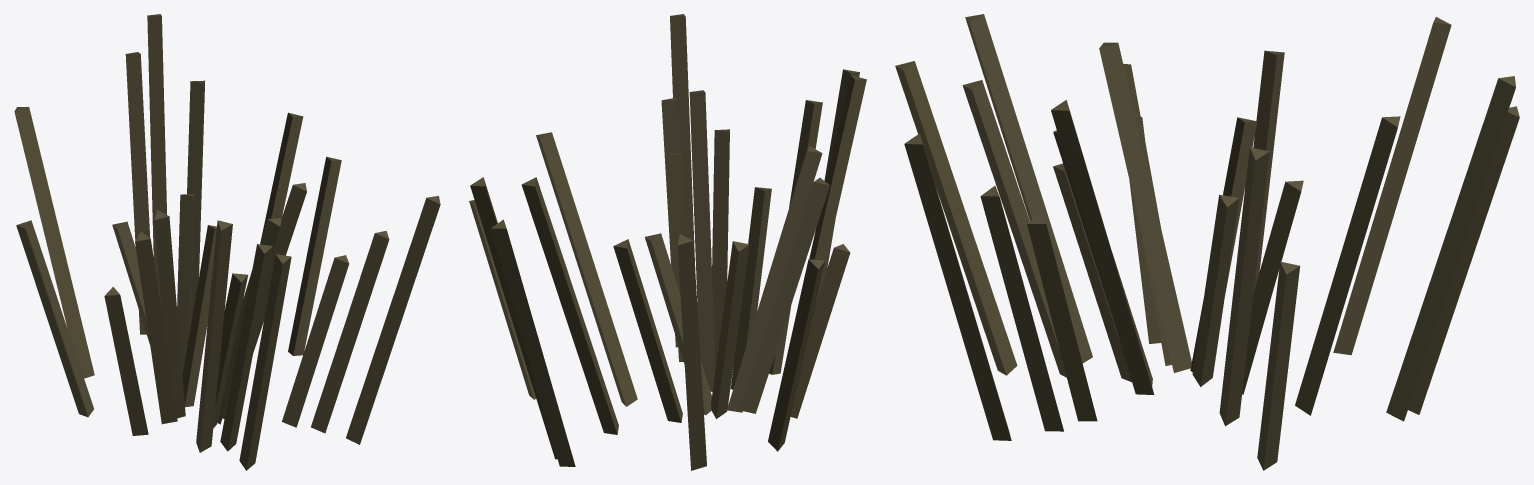
File: lb_tuft_A.fbx
3 renders of one model, left to right at view 1: azimuth 30°, elevation 25°; view 2: azimuth 150°, elevation 25°; view 3: azimuth 270°, elevation 25°, orthographic. The views are drawn at different scales.
Visible parts, largest first — view 1: lb_tuft_A_export; view 2: lb_tuft_A_export; view 3: lb_tuft_A_export.
Boxes of the visible parts, x1=… form: lb_tuft_A_export: x1=14, y1=14, x2=440, y2=470; lb_tuft_A_export: x1=469, y1=14, x2=866, y2=470; lb_tuft_A_export: x1=895, y1=14, x2=1519, y2=470.
Size of the model in its own units: 24.25 by 20.17 by 31.54.
